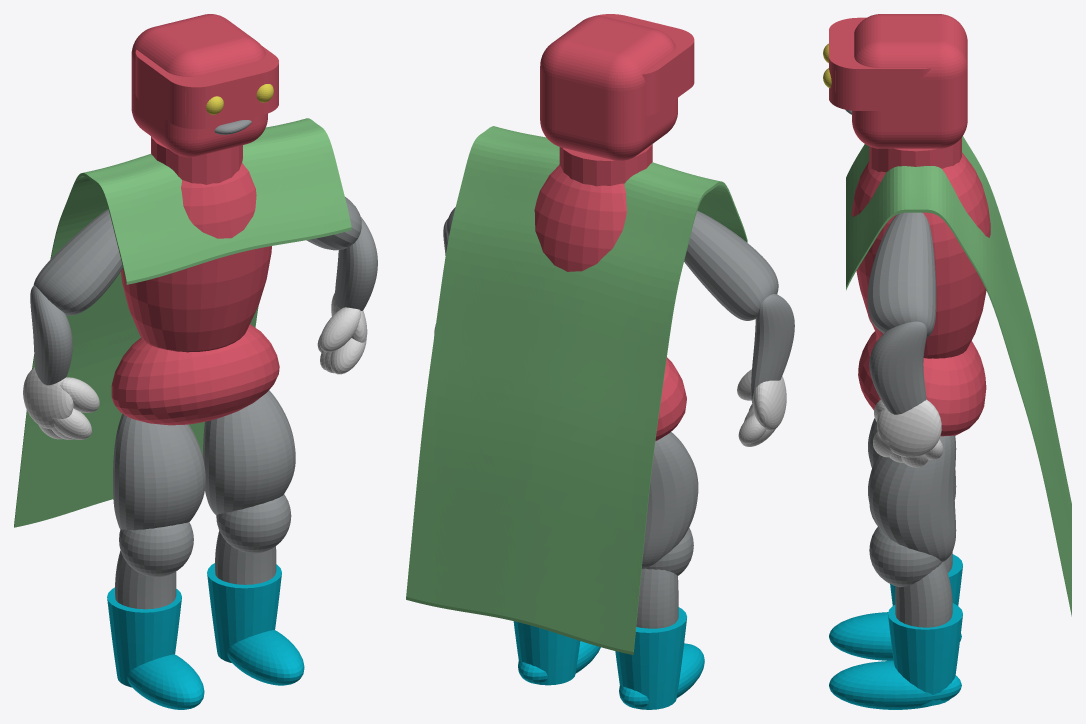
The model's file is MyHero.glb.
3 views of the same model, side by side, from view 1: azimuth 30°, elevation 25°; view 2: azimuth 150°, elevation 25°; view 3: azimuth 270°, elevation 25° (orthographic).
Parts seen in each view (by area): view 1: Mesh_Mesh_head_geo.001_lambert2SG.001; view 2: Mesh_Mesh_head_geo.001_lambert2SG.001; view 3: Mesh_Mesh_head_geo.001_lambert2SG.001.
Part boxes in pixels (bbox=[...]): Mesh_Mesh_head_geo.001_lambert2SG.001: bbox=[14, 14, 377, 709]; Mesh_Mesh_head_geo.001_lambert2SG.001: bbox=[406, 14, 794, 709]; Mesh_Mesh_head_geo.001_lambert2SG.001: bbox=[823, 14, 1071, 709].
Bounding box in the file's own units: 66.83 × 124 × 43.
